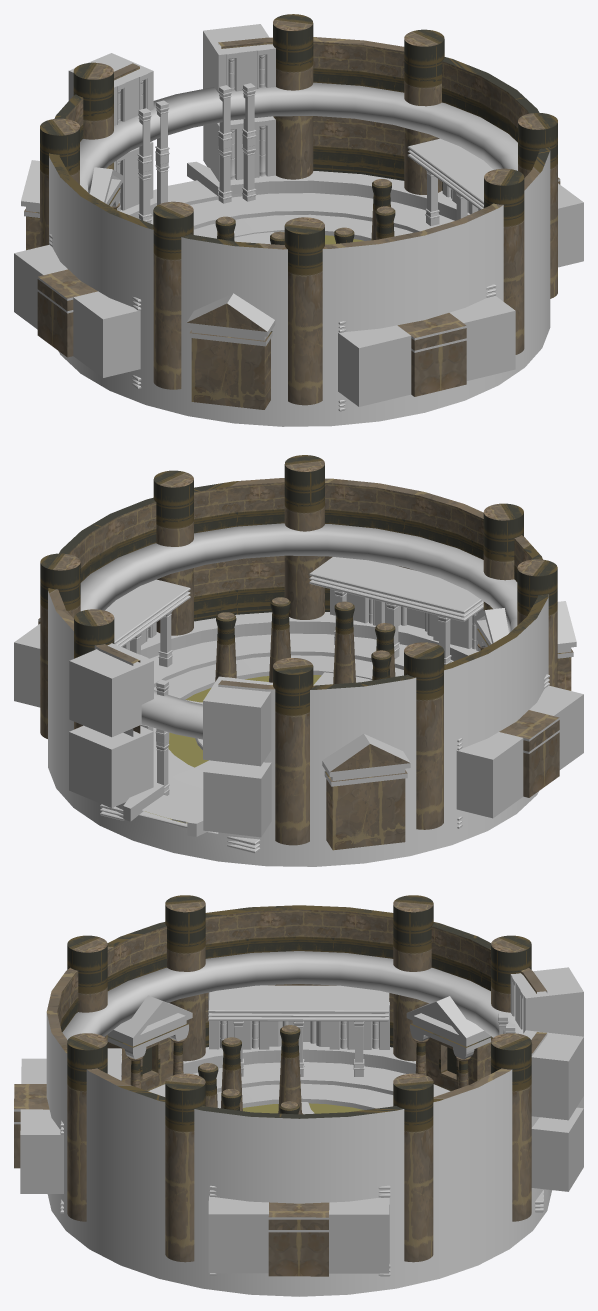
Rendered from giris_oda 1.fbx.
The picture shows the model from 3 angles, top to bottom: view 1: azimuth 30°, elevation 25°; view 2: azimuth 150°, elevation 25°; view 3: azimuth 270°, elevation 25°; orthographic projection.
Parts seen in each view (by area): view 1: Cylinder, Cube.004, Cylinder.002, Cylinder.008, Cylinder.003, Cylinder.007, Cube.673, Cube.014, Cube.019, Cube.013, Cylinder.006, Cube.016 (+3 smaller); view 2: Cylinder, Cube.004, Cylinder.003, Cylinder.002, Cylinder.008, Cylinder.007, Cube.014, Cube.019, Cube.013, Cylinder.006, Cube.673, Cube.017; view 3: Cylinder, Cube.004, Cylinder.008, Cylinder.003, Cylinder.002, Cylinder.007, Cube.014, Cube.013, Cube.673, Cylinder.006, Cube.019.
Part boxes in pixels (box(x1,y1,x2,y2)): Cylinder: box(49, 37, 550, 426); Cube.004: box(14, 138, 583, 411); Cylinder.002: box(73, 14, 524, 405); Cylinder.008: box(40, 29, 557, 389); Cylinder.003: box(80, 82, 517, 193); Cylinder.007: box(120, 161, 470, 240); Cube.673: box(186, 293, 275, 409); Cube.014: box(68, 24, 275, 125); Cube.019: box(114, 116, 275, 211); Cube.013: box(21, 160, 123, 250); Cylinder.006: box(215, 179, 395, 244); Cube.016: box(137, 83, 256, 172); Cylinder: box(48, 478, 548, 866); Cube.004: box(14, 557, 583, 853); Cylinder.003: box(80, 523, 517, 739); Cylinder.002: box(74, 455, 523, 845); Cylinder.008: box(40, 470, 557, 829); Cylinder.007: box(123, 612, 478, 836); Cube.014: box(69, 643, 272, 766); Cube.019: box(69, 725, 271, 837); Cube.013: box(322, 734, 410, 850); Cylinder.006: box(215, 597, 395, 684); Cube.673: box(474, 601, 576, 690); Cube.017: box(156, 740, 169, 795); Cylinder: box(46, 905, 551, 1296); Cube.004: box(14, 985, 543, 1276); Cylinder.008: box(165, 895, 433, 1262); Cylinder.003: box(62, 951, 522, 1039); Cylinder.002: box(67, 935, 531, 1221); Cylinder.007: box(148, 1042, 450, 1109); Cube.014: box(510, 967, 583, 1120); Cube.013: box(406, 996, 490, 1091); Cube.673: box(107, 995, 192, 1090); Cylinder.006: box(198, 1025, 302, 1114); Cube.019: box(531, 1096, 583, 1191).
Size of the model in its own units: 1895 by 738 by 1892.
